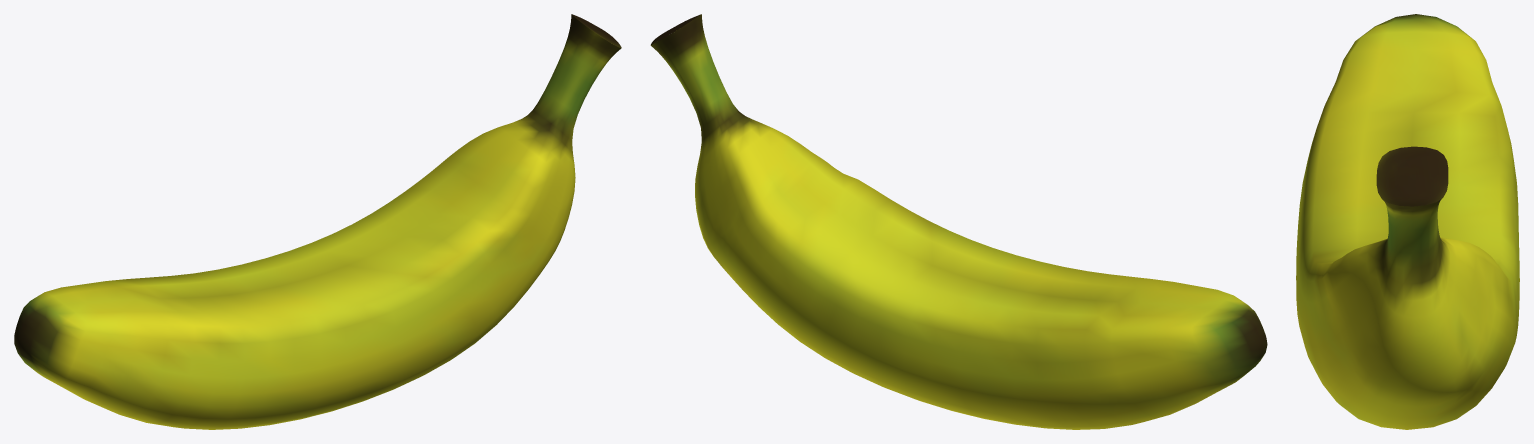
Rendered from banana.fbx.
3 views of the same model, side by side, from view 1: azimuth 30°, elevation 25°; view 2: azimuth 150°, elevation 25°; view 3: azimuth 270°, elevation 25° (orthographic). The views are drawn at different scales.
Parts seen in each view (by area): view 1: banana; view 2: banana; view 3: banana.
Boxes of the visible parts, left/top/right/bottom form: banana: left=14, top=14, right=621, bottom=429; banana: left=650, top=14, right=1267, bottom=429; banana: left=1296, top=14, right=1519, bottom=429.
Size of the model in its own units: 881 by 442 by 227.
